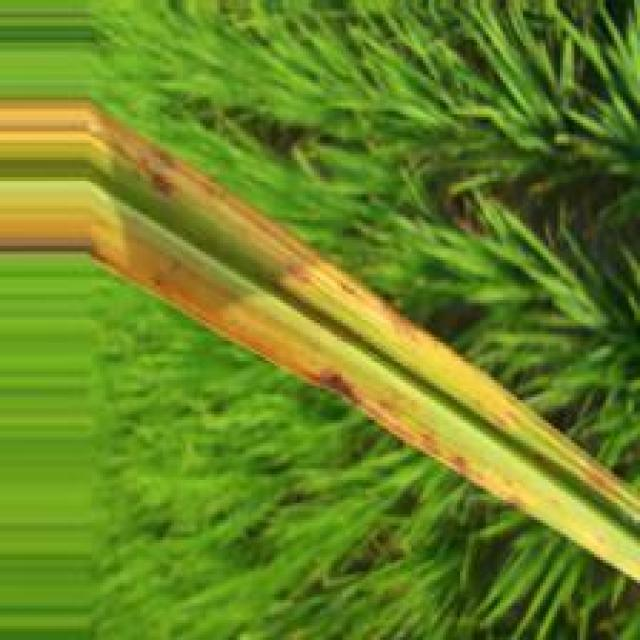Leaf_Blast: (0, 92, 640, 533), (0, 180, 640, 578)
